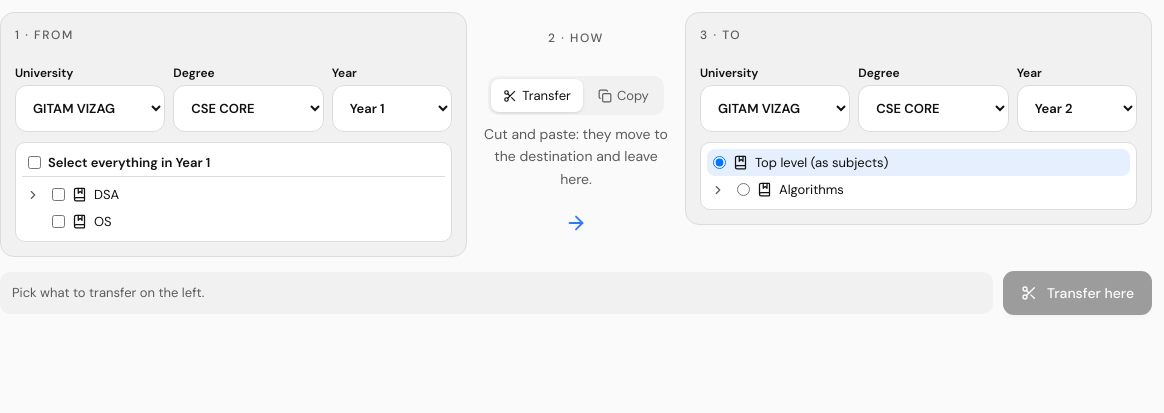
Test: explains what's missing: nothing picked, or a file with no folder to go in
The width and height of the screenshot is (1164, 413).
Check: the checkbox named "Select DSA" is shown, box [52,188,65,201]
Check: the message reads "Pick what to transfer on the left.", box [12,284,204,301]
Step 1. Click the button named "Open DSA" → (33, 194), box [22,184,44,206]
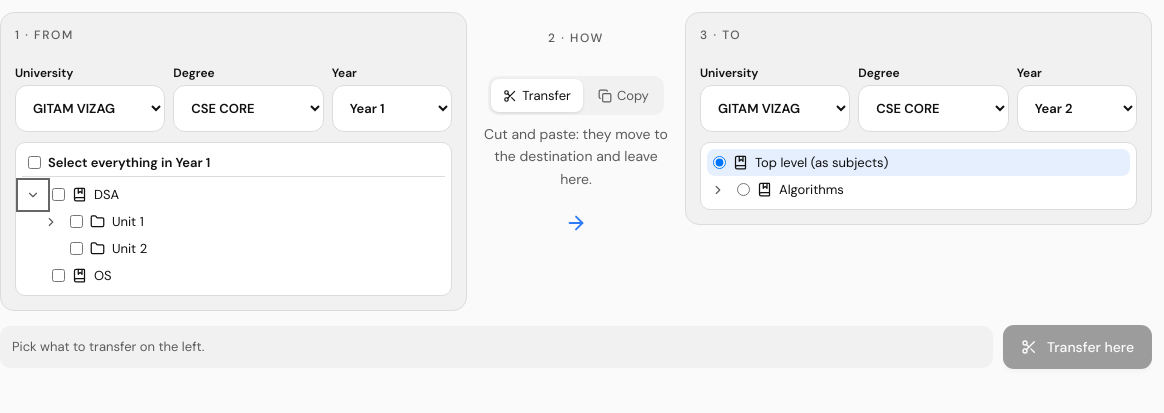
Step 2. Click the button named "Open Unit 1" → (51, 222), box [40,210,62,232]
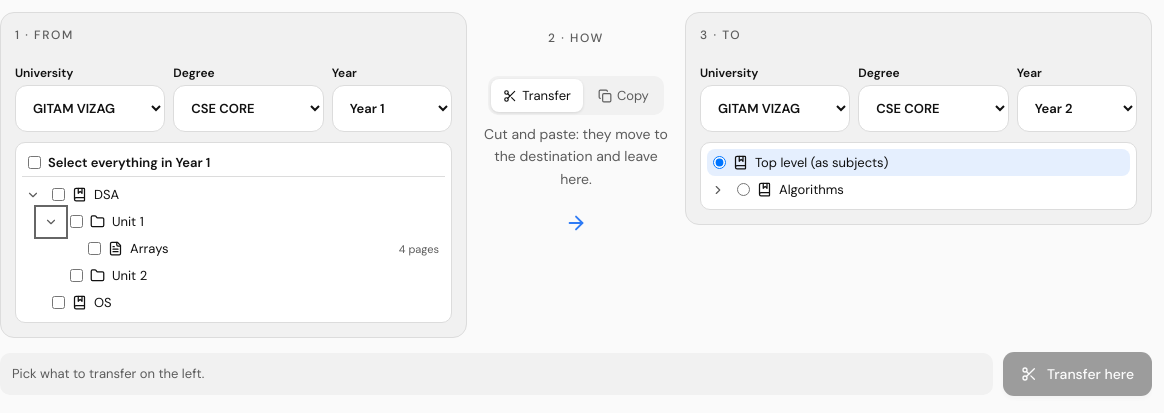
Step 3. Click the checkbox named "Select Arrays" → (94, 248), box [88,242,101,255]
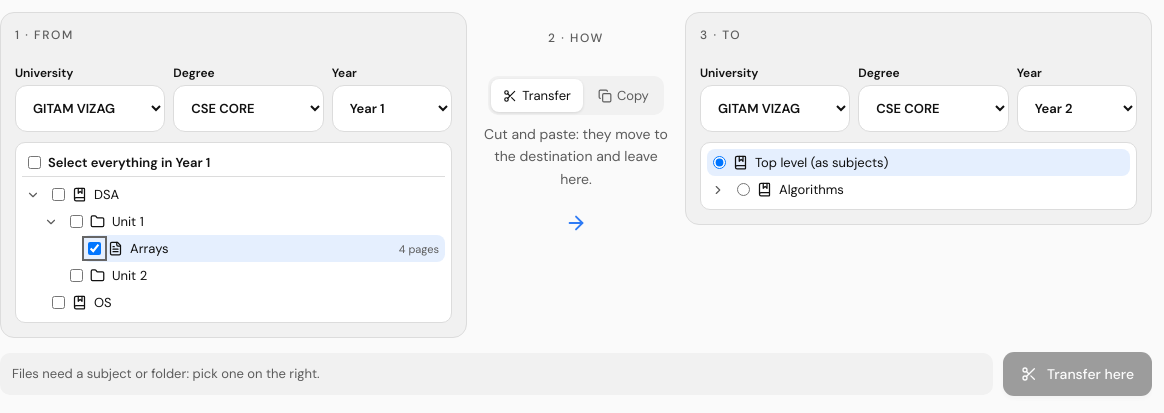
Check: the radio button labelled "Top level (as subjects)" is shown, box [713,156,726,169]
Check: the message reads "Files need a subject or folder: pick one on the right.", box [12,365,320,382]
